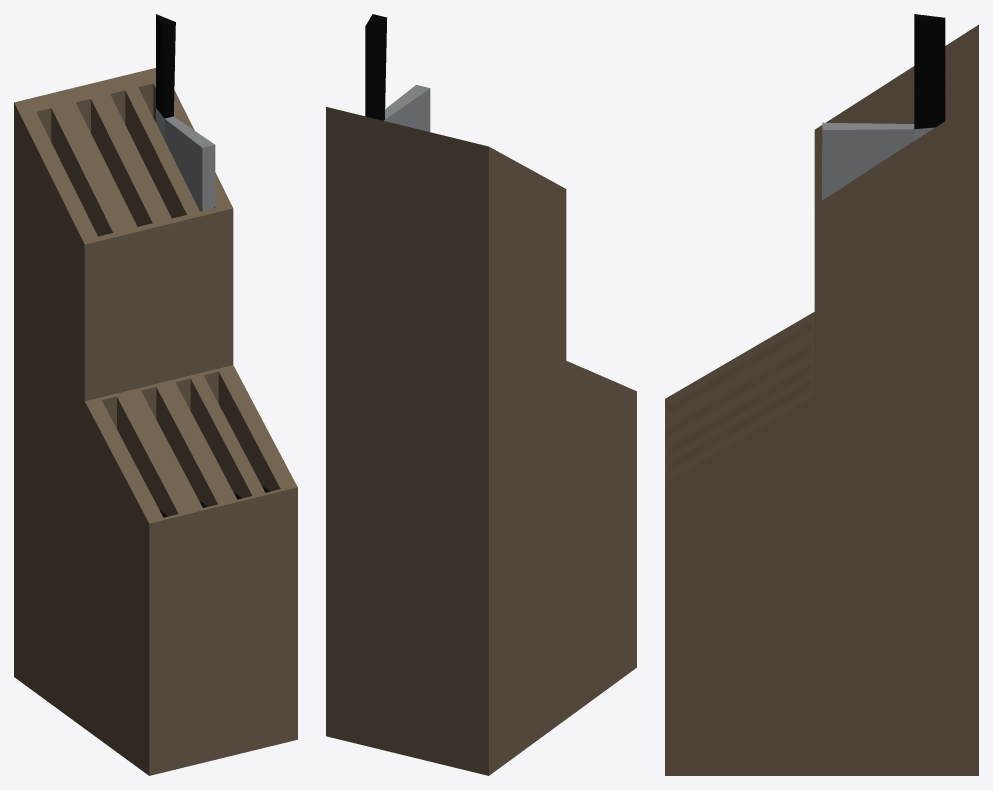
The model's file is knife_keeper.fbx.
The picture shows the model from 3 angles, left to right: view 1: azimuth 30°, elevation 25°; view 2: azimuth 150°, elevation 25°; view 3: azimuth 270°, elevation 25°; orthographic projection. The views are drawn at different scales.
Visible parts, largest first — view 1: knife_keeper; view 2: knife_keeper; view 3: knife_keeper.
Part boxes in pixels (x1=…): knife_keeper: x1=14, y1=14, x2=297, y2=775; knife_keeper: x1=326, y1=14, x2=636, y2=775; knife_keeper: x1=665, y1=14, x2=978, y2=775.
Size of the model in its own units: 29.61 by 122 by 46.62.
